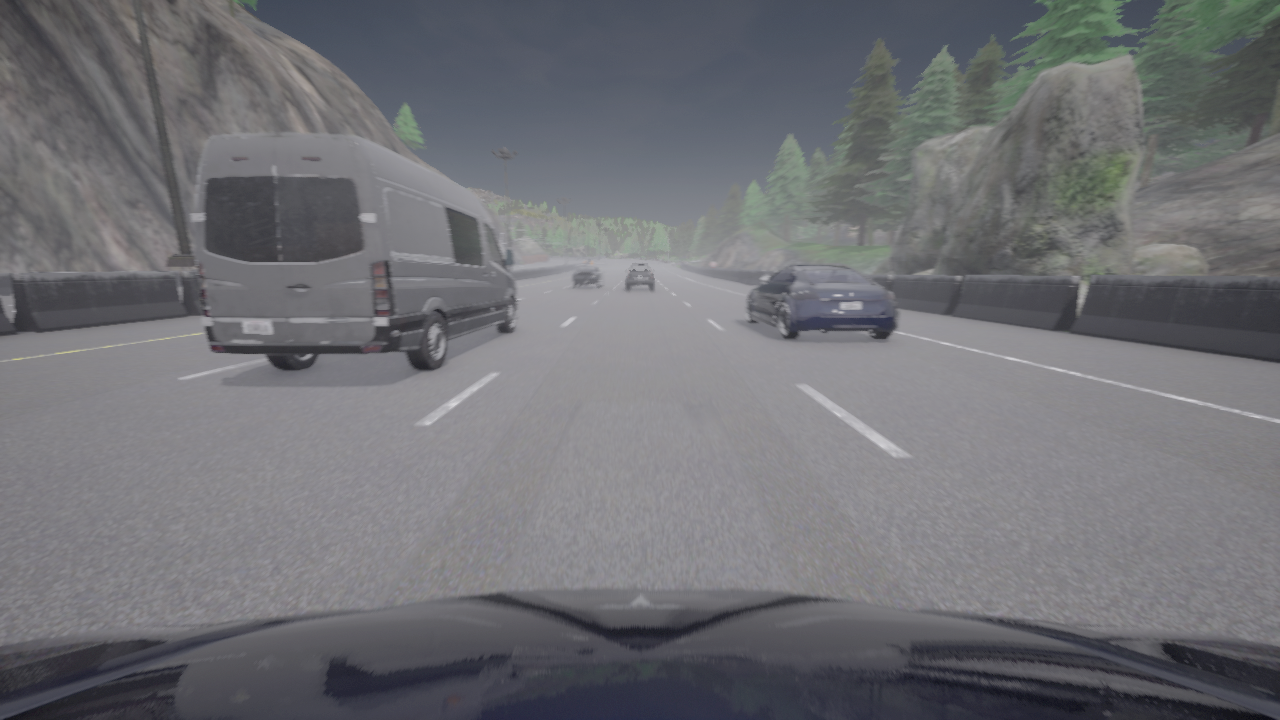cyclist: (0, 588, 1279, 719), (192, 133, 517, 369), (745, 264, 898, 339), (573, 265, 605, 287), (626, 263, 653, 289)
